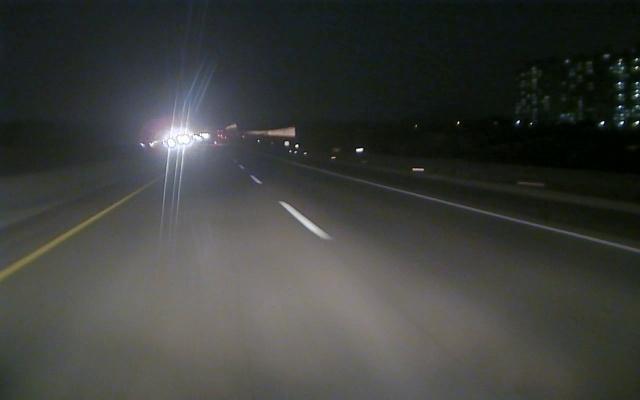lane: (353, 178, 638, 254), (1, 194, 133, 280), (249, 173, 333, 239)
